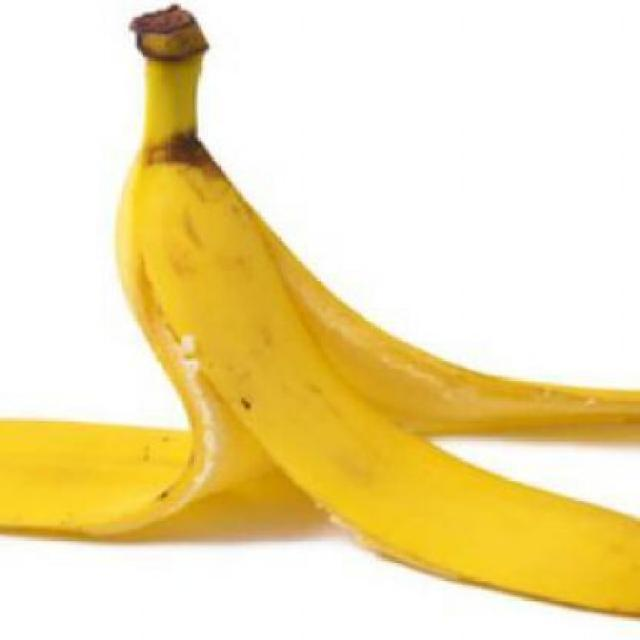banana-peel: (0, 1, 639, 621)
